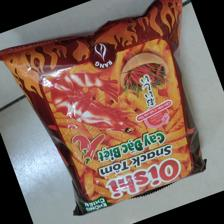Oishi_Cay: (1, 1, 209, 213)
